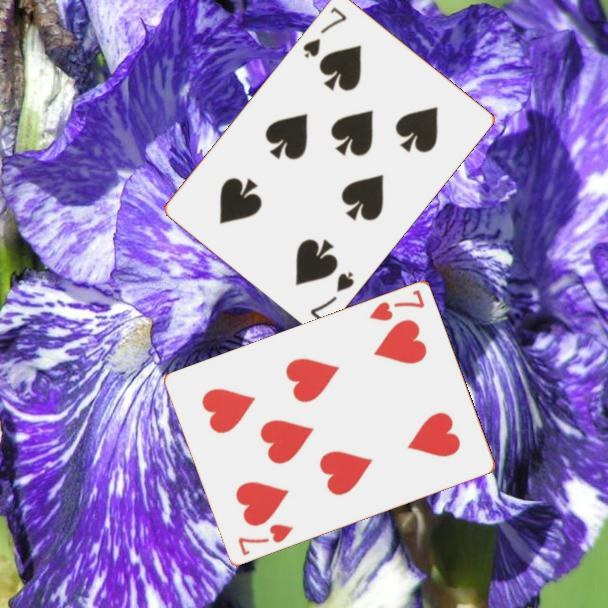h07: (234, 521, 296, 559), (365, 287, 427, 324)
s07: (299, 3, 350, 61), (307, 268, 357, 326)
